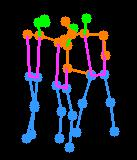normal: (10, 10, 57, 147)
